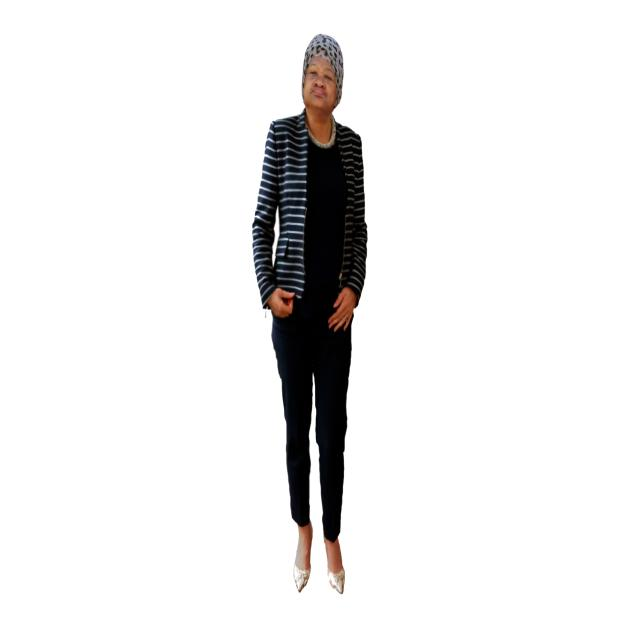jovem: (251, 31, 371, 603)
